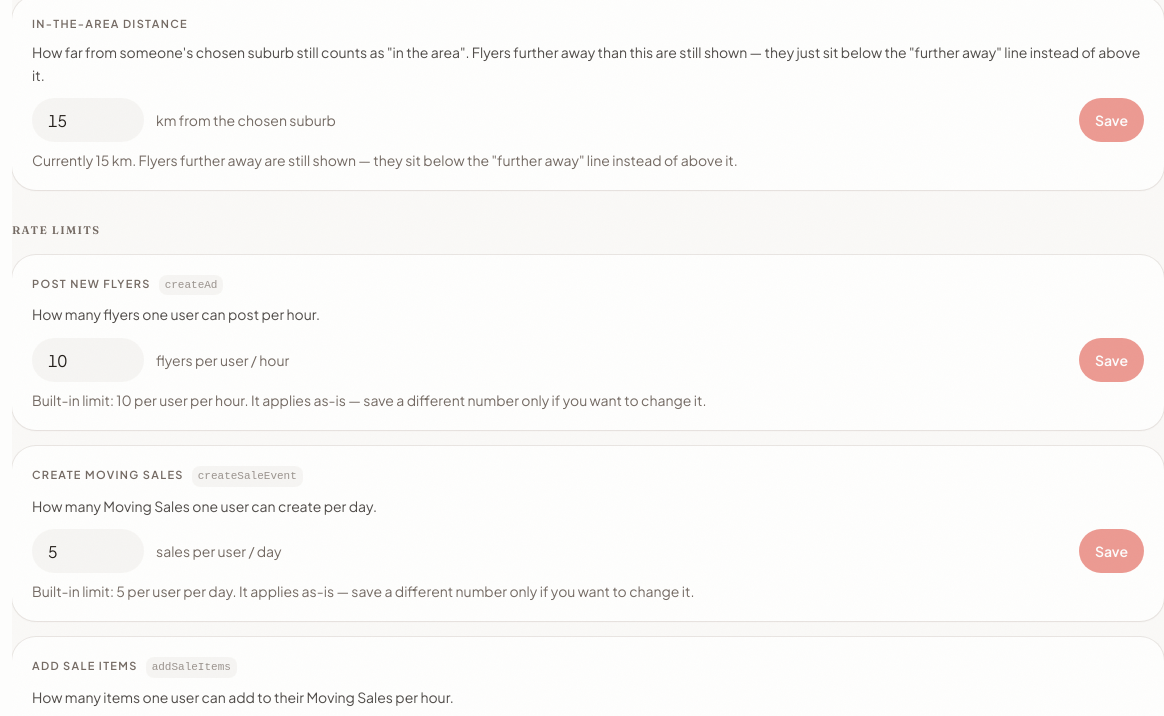
it: SettingsTab › rejects an over-clamp rate-limit value client-side (max 4× the built-in limit)
(page scrolled)
Replace the text in the number field labelled "Post new flyers" with "41" at (88, 360), box [32,338,144,382]
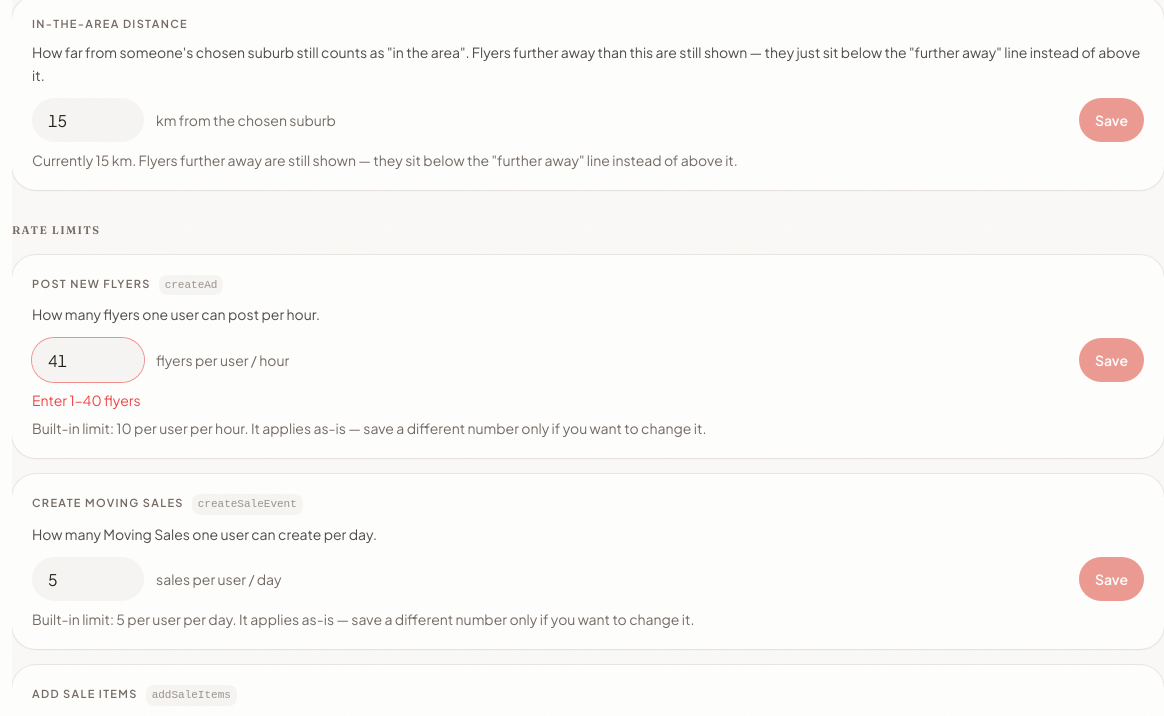
Check: the button "Save" in the row of "flyers per user / hour" is disabled, box [1079,338,1144,382]
Check: the text "Enter 1–40 flyers" is shown, box [32,391,141,409]
